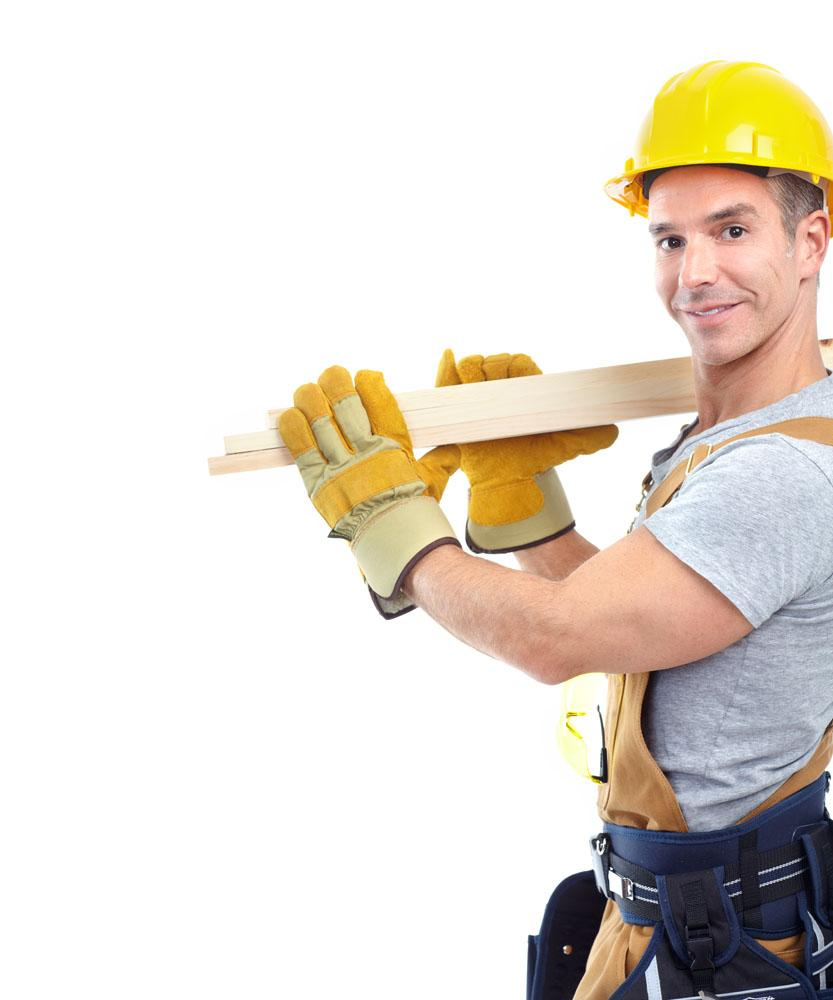helmet: (604, 58, 833, 219)
